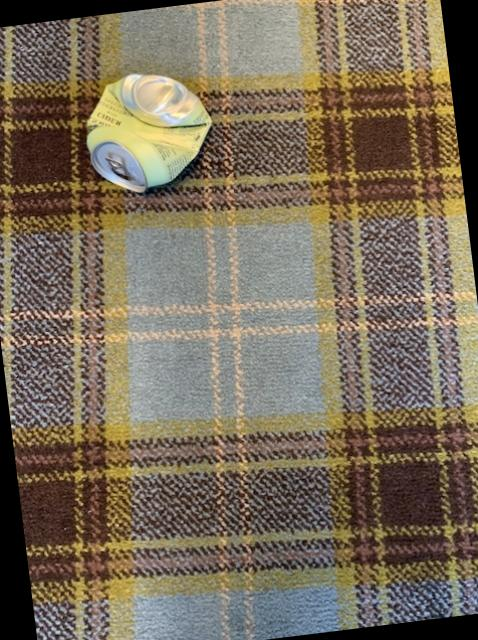metal: (86, 75, 210, 193)
